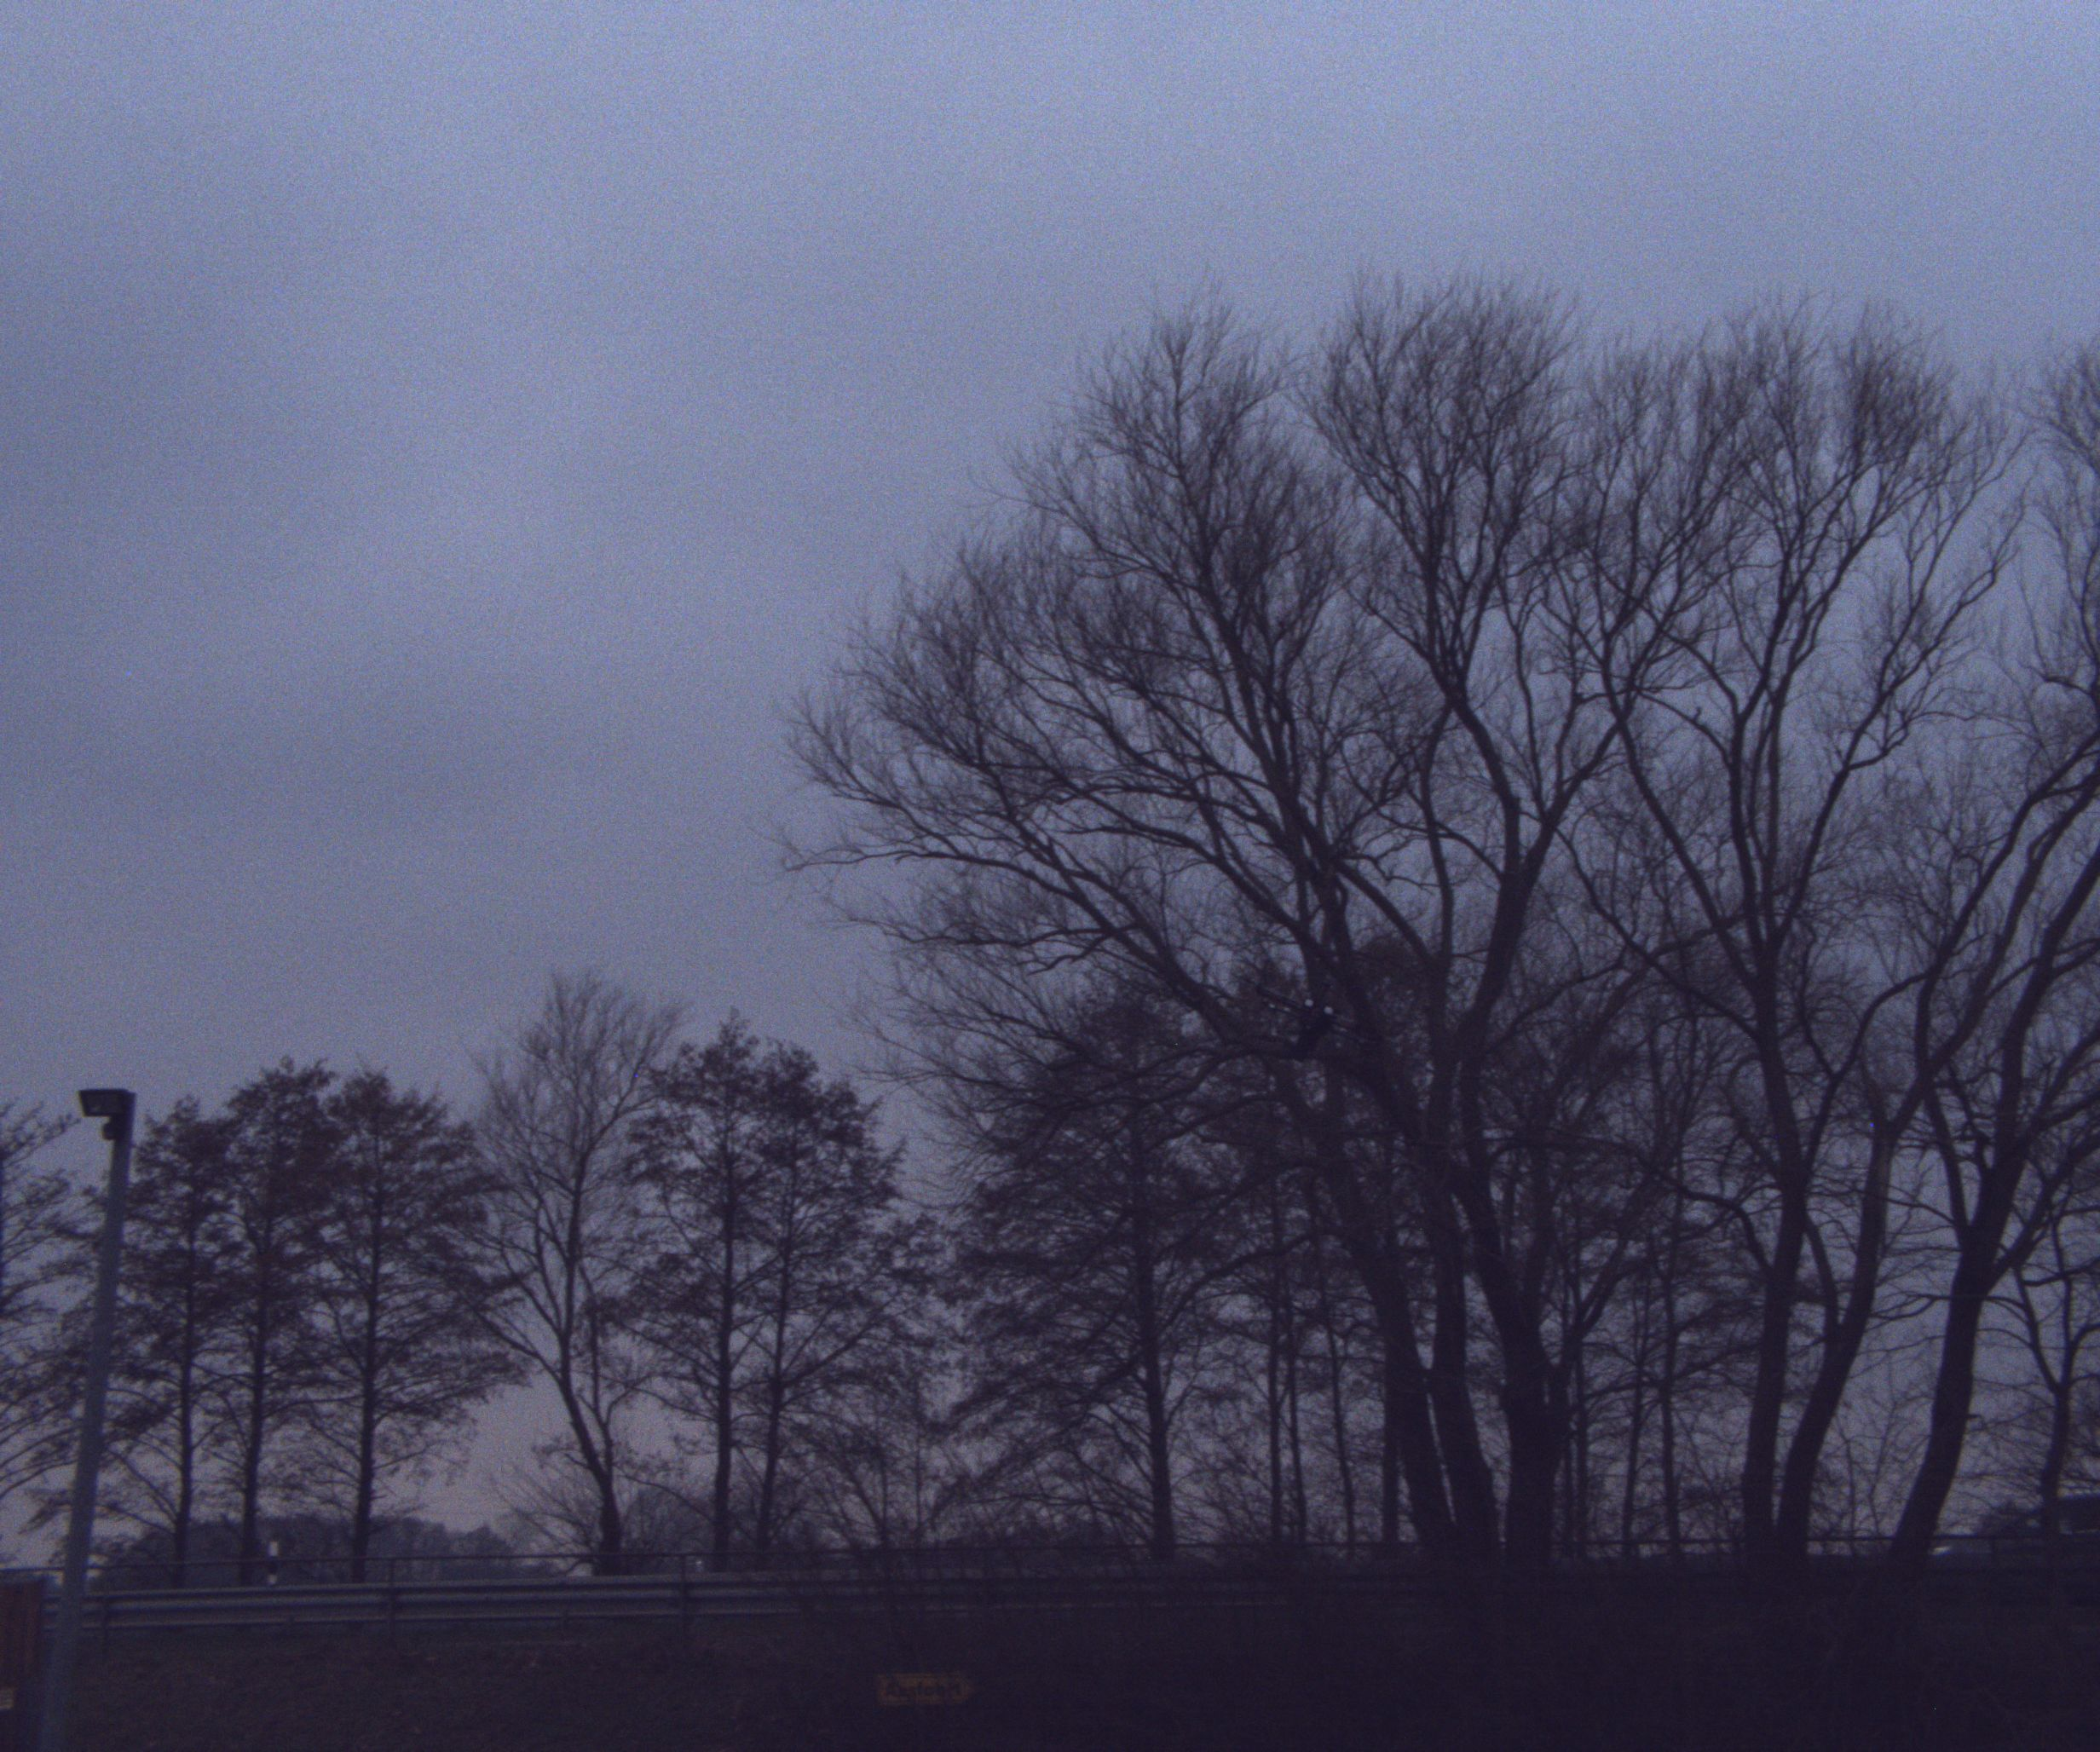Drohne: (1207, 966, 1395, 1112)
